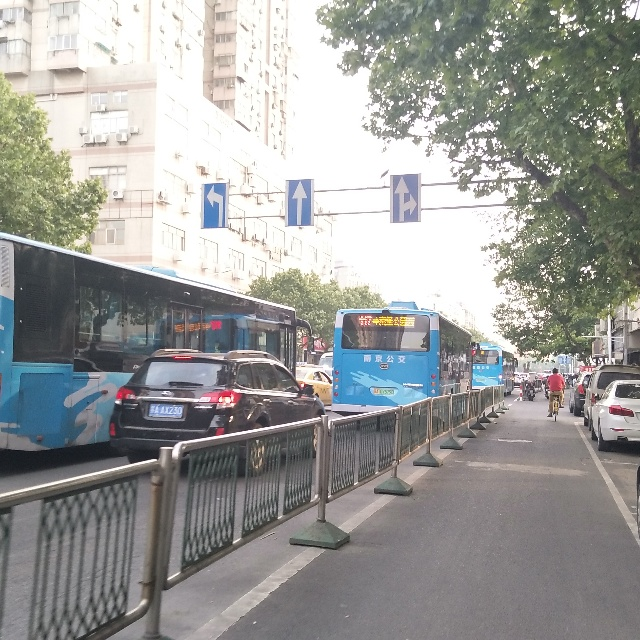left: (200, 183, 229, 228)
straight: (285, 179, 314, 227)
